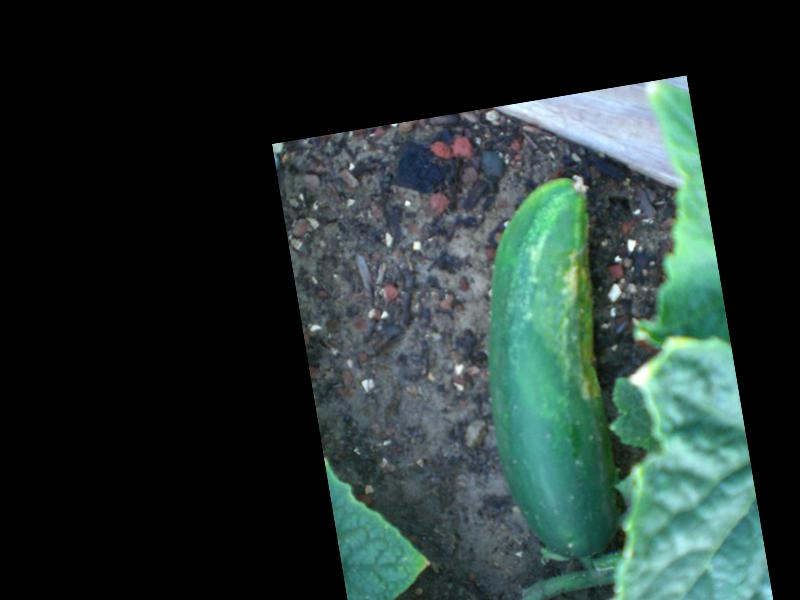Cucumber: (456, 173, 646, 567)
